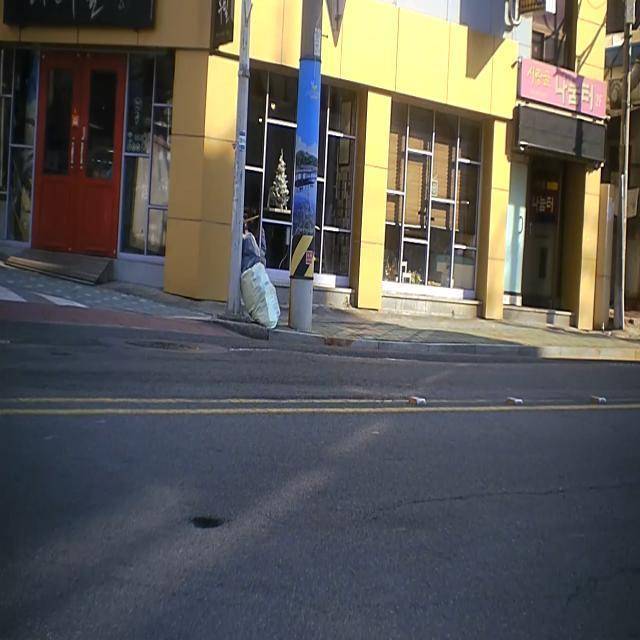Buraco: (185, 514, 230, 531)
